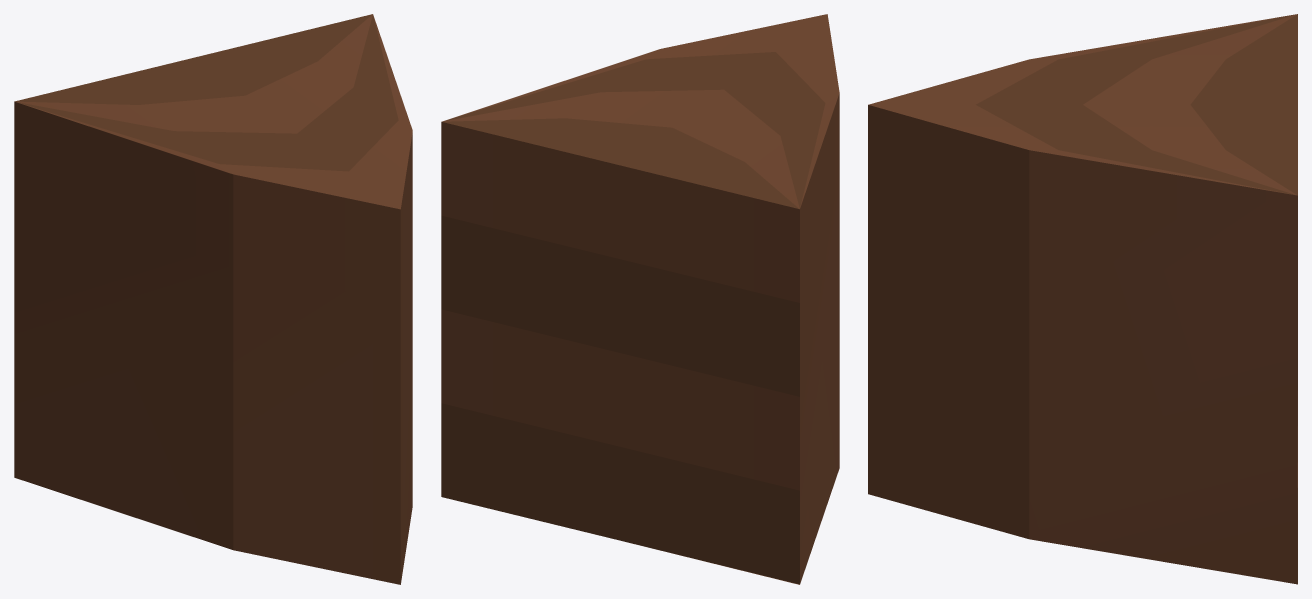
Rendered from FrontBottom.fbx.
The picture shows the model from 3 angles, left to right: view 1: azimuth 30°, elevation 25°; view 2: azimuth 150°, elevation 25°; view 3: azimuth 270°, elevation 25°; orthographic projection. The views are drawn at different scales.
Parts seen in each view (by area): view 1: pasted__pCube2; view 2: pasted__pCube2; view 3: pasted__pCube2.
Boxes of the visible parts, x1,y1,x2,y2 form: pasted__pCube2: [14, 14, 412, 584]; pasted__pCube2: [441, 14, 839, 584]; pasted__pCube2: [868, 14, 1297, 584].
Bounding box in the file's own units: 1 × 1 × 1.
